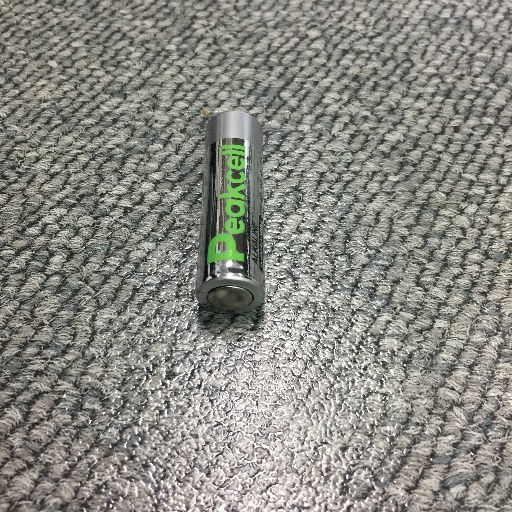Battery_0: (183, 95, 279, 332)
